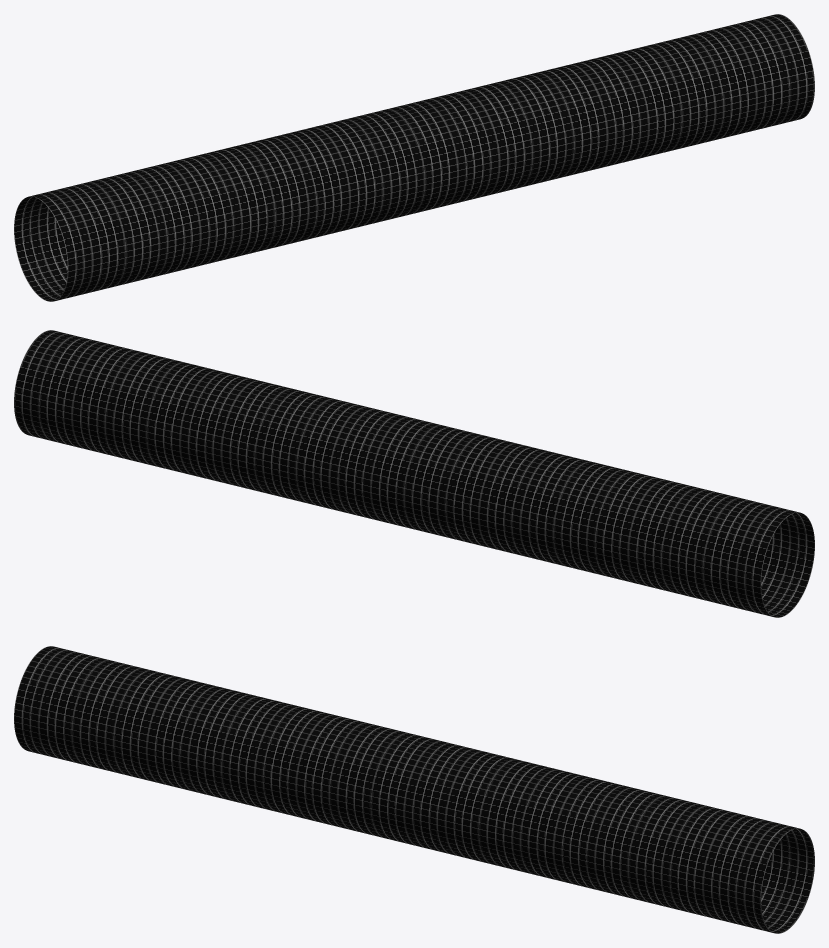
The model's file is CylinderGrid.fbx.
3 views of the same model, one above another, from view 1: azimuth 30°, elevation 25°; view 2: azimuth 150°, elevation 25°; view 3: azimuth 330°, elevation 25° (orthographic).
Parts seen in each view (by area): view 1: pCylinder1; view 2: pCylinder1; view 3: pCylinder1.
Part boxes in pixels (x1,y1,x2,y2): pCylinder1: [14, 14, 814, 301]; pCylinder1: [14, 330, 814, 617]; pCylinder1: [14, 646, 814, 933].
Bounding box in the file's own units: 16 × 2 × 2.
Materials: 1 (1 with a texture image).
